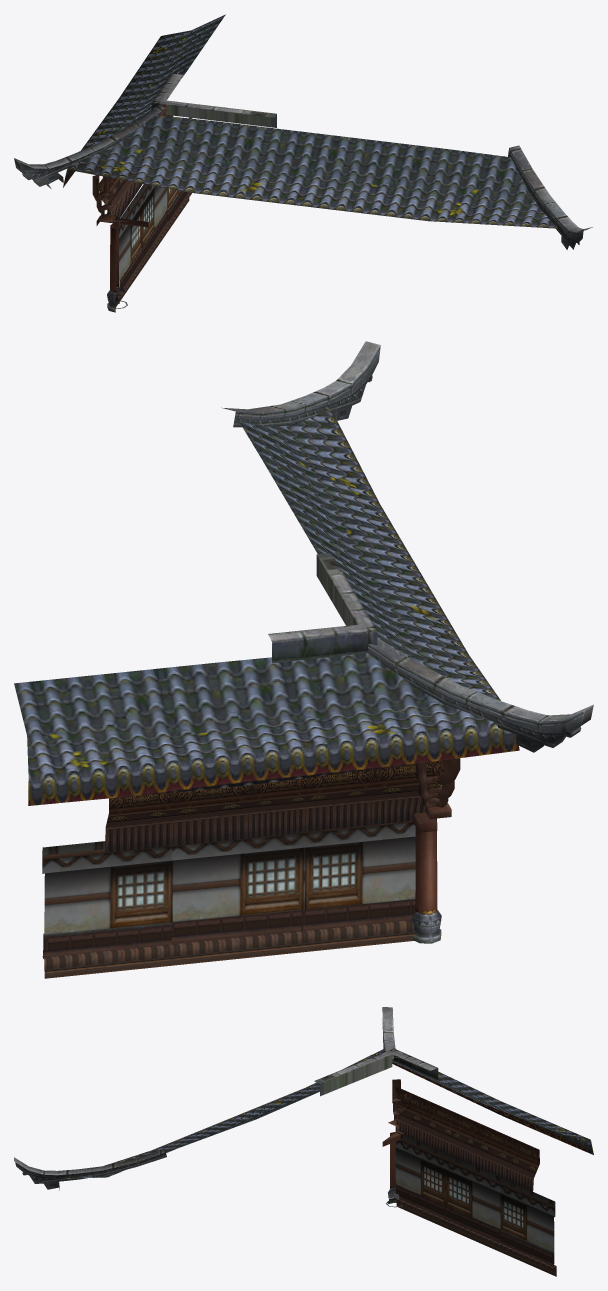
File: S2_Build_XSC058_H2.FBX
3 renders of one model, top to bottom at view 1: azimuth 30°, elevation 25°; view 2: azimuth 150°, elevation 25°; view 3: azimuth 270°, elevation 25°, orthographic. The views are drawn at different scales.
Parts seen in each view (by area): view 1: S2_Build_XSC058_H2; view 2: S2_Build_XSC058_H2; view 3: S2_Build_XSC058_H2.
Part boxes in pixels (x1,y1,x2,y2): S2_Build_XSC058_H2: [14, 14, 592, 312]; S2_Build_XSC058_H2: [14, 341, 593, 978]; S2_Build_XSC058_H2: [14, 1007, 593, 1276].
Size of the model in its own units: 5367 by 2704 by 8211.
